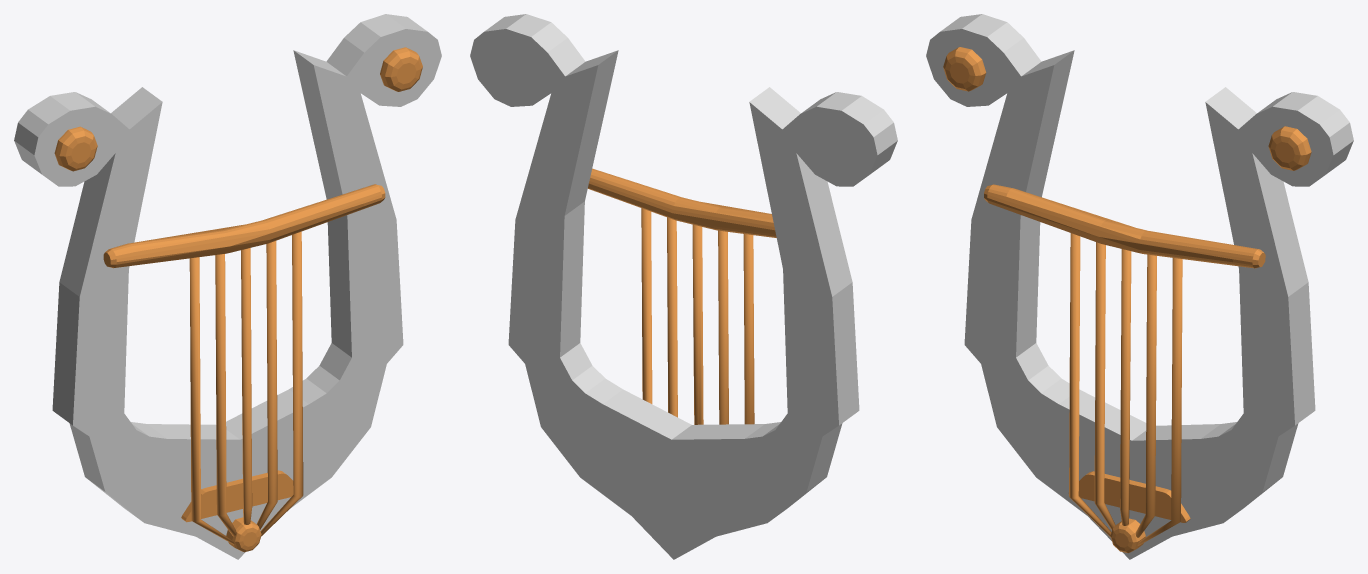
The model's file is Harp.fbx.
3 renders of one model, left to right at view 1: azimuth 30°, elevation 25°; view 2: azimuth 150°, elevation 25°; view 3: azimuth 330°, elevation 25°, orthographic.
Parts seen in each view (by area): view 1: Cylinder.011; view 2: Cylinder.011; view 3: Cylinder.011.
Boxes of the visible parts, x1,y1,x2,y2 form: Cylinder.011: (14, 14, 441, 559); Cylinder.011: (470, 14, 897, 559); Cylinder.011: (926, 14, 1353, 559).
Bounding box in the file's own units: 28.53 × 32.78 × 3.88.
